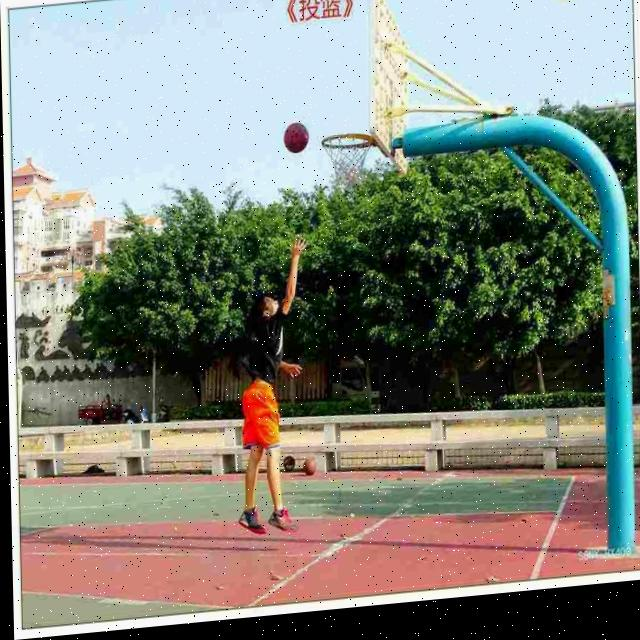basketball: (283, 121, 309, 154), (303, 457, 317, 476)
hoop: (321, 130, 375, 194)
